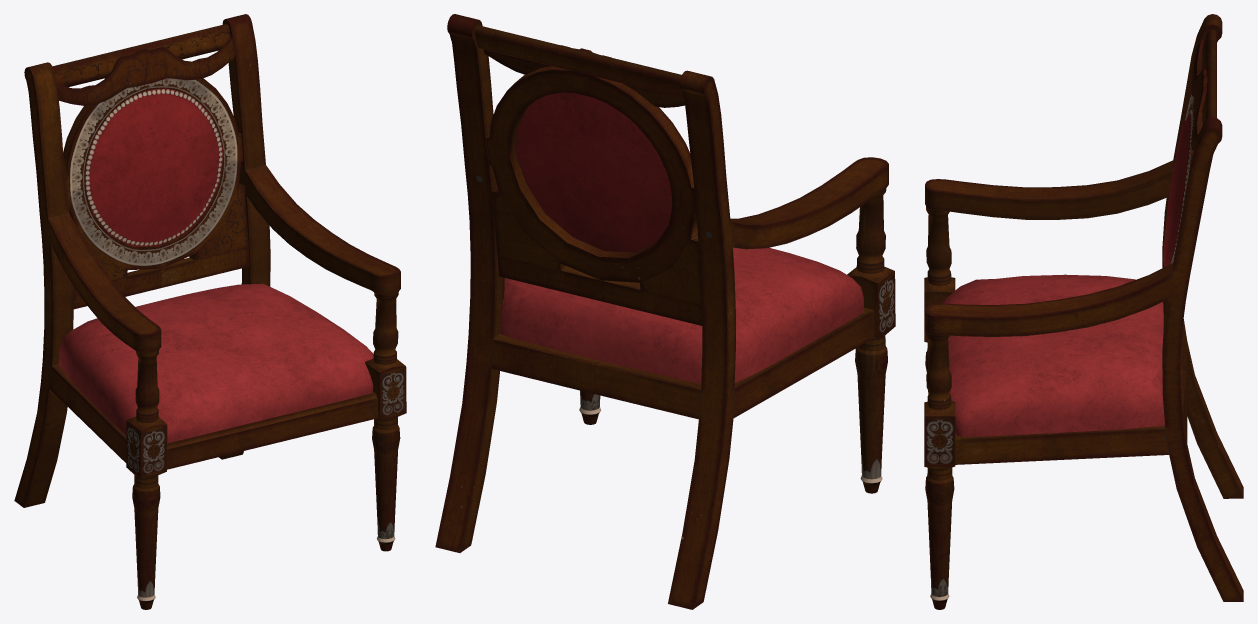
The model's file is Lounge Chair4.glb.
3 renders of one model, left to right at view 1: azimuth 30°, elevation 25°; view 2: azimuth 150°, elevation 25°; view 3: azimuth 270°, elevation 25°, orthographic. The views are drawn at different scales.
Visible parts, largest first — view 1: RChair; view 2: RChair; view 3: RChair.
Part boxes in pixels (x1,y1,x2,y2): RChair: (14,14,406,609); RChair: (435,14,895,609); RChair: (924,14,1243,609).
Bounding box in the file's own units: 0.9488 × 1.51 × 0.9235.
Materials: 1 (1 with a texture image).
